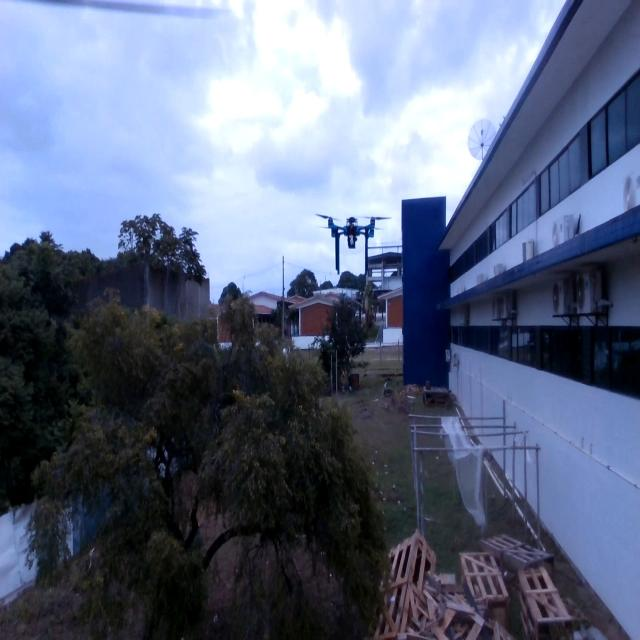-uav-: (306, 179, 396, 292)
